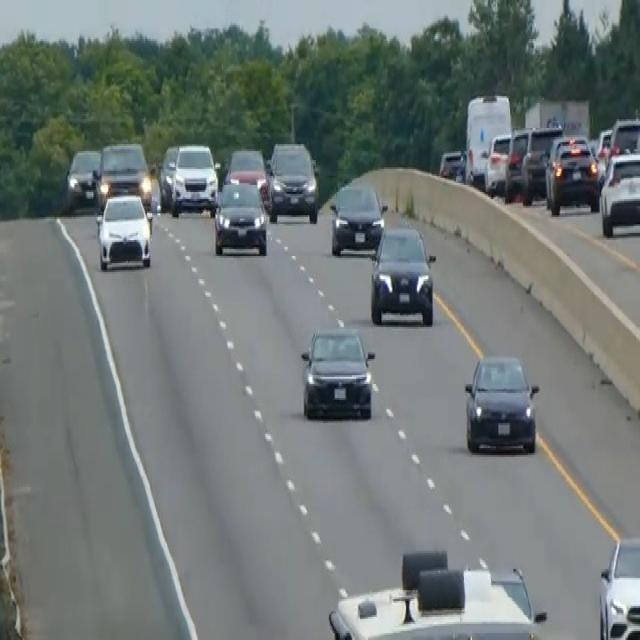bus: (327, 546, 547, 638)
car: (463, 350, 540, 455), (299, 322, 375, 421), (369, 222, 436, 326), (92, 139, 153, 217), (544, 132, 600, 215), (95, 190, 152, 270), (328, 178, 386, 254), (597, 534, 639, 638), (267, 139, 319, 222), (213, 178, 267, 256), (598, 150, 639, 236), (171, 141, 218, 215), (521, 123, 563, 205), (224, 146, 270, 206), (65, 146, 101, 208), (503, 124, 531, 201), (483, 130, 512, 194), (157, 142, 179, 208), (608, 116, 639, 156), (438, 146, 465, 181)
minibus: (462, 89, 513, 187)
